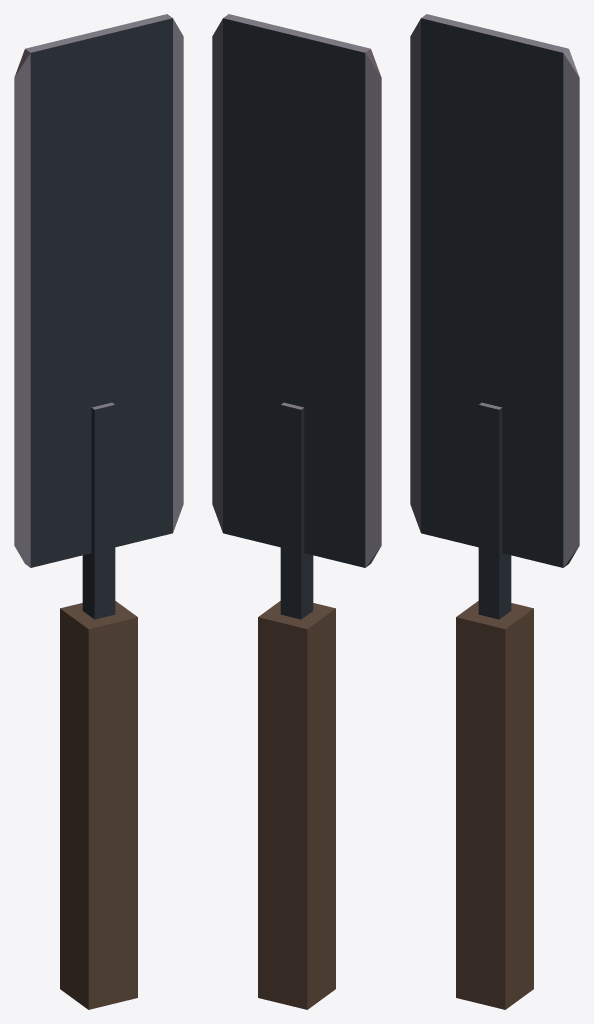
Rendered from TB_Prop_Saw.FBX.
3 views of the same model, side by side, from view 1: azimuth 30°, elevation 25°; view 2: azimuth 150°, elevation 25°; view 3: azimuth 330°, elevation 25° (orthographic).
Parts seen in each view (by area): view 1: TB_Prop_Saw; view 2: TB_Prop_Saw; view 3: TB_Prop_Saw.
Boxes of the visible parts, left/top/right/bottom form: TB_Prop_Saw: left=14, top=14, right=183, bottom=1009; TB_Prop_Saw: left=212, top=14, right=381, bottom=1009; TB_Prop_Saw: left=410, top=14, right=579, bottom=1009.
Size of the model in its own units: 0.171 by 0.9277 by 0.05.
